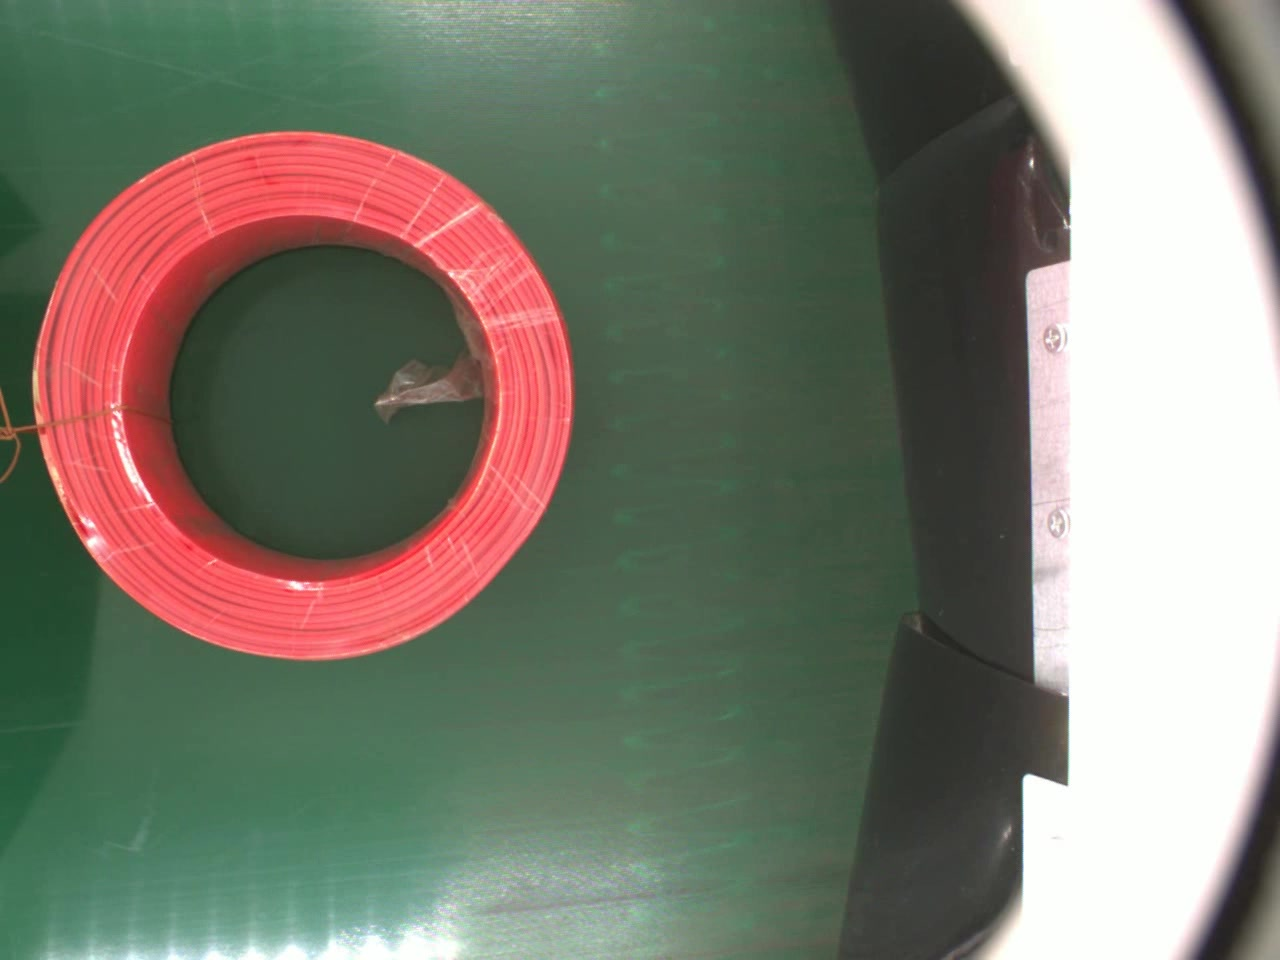red: (25, 125, 574, 666)
